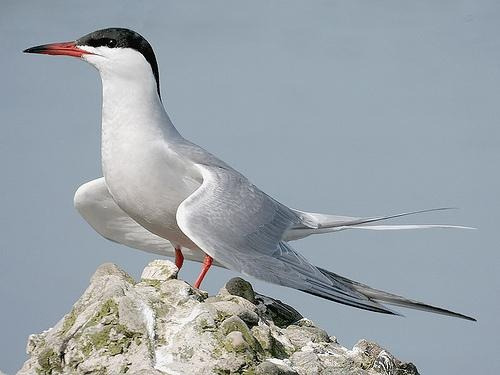bird: (16, 25, 483, 325)
